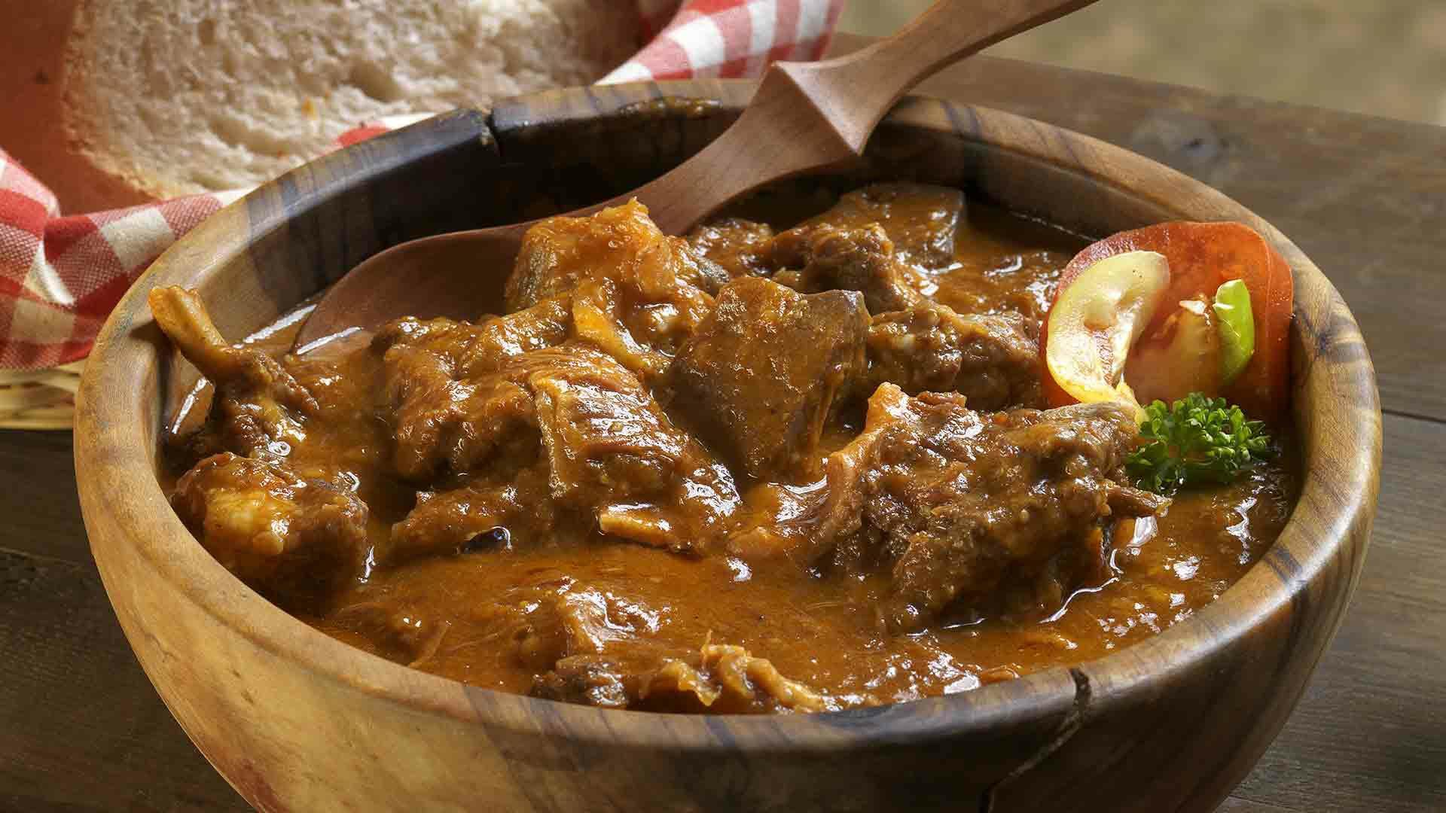MuttonCurry: (160, 188, 1294, 717)
